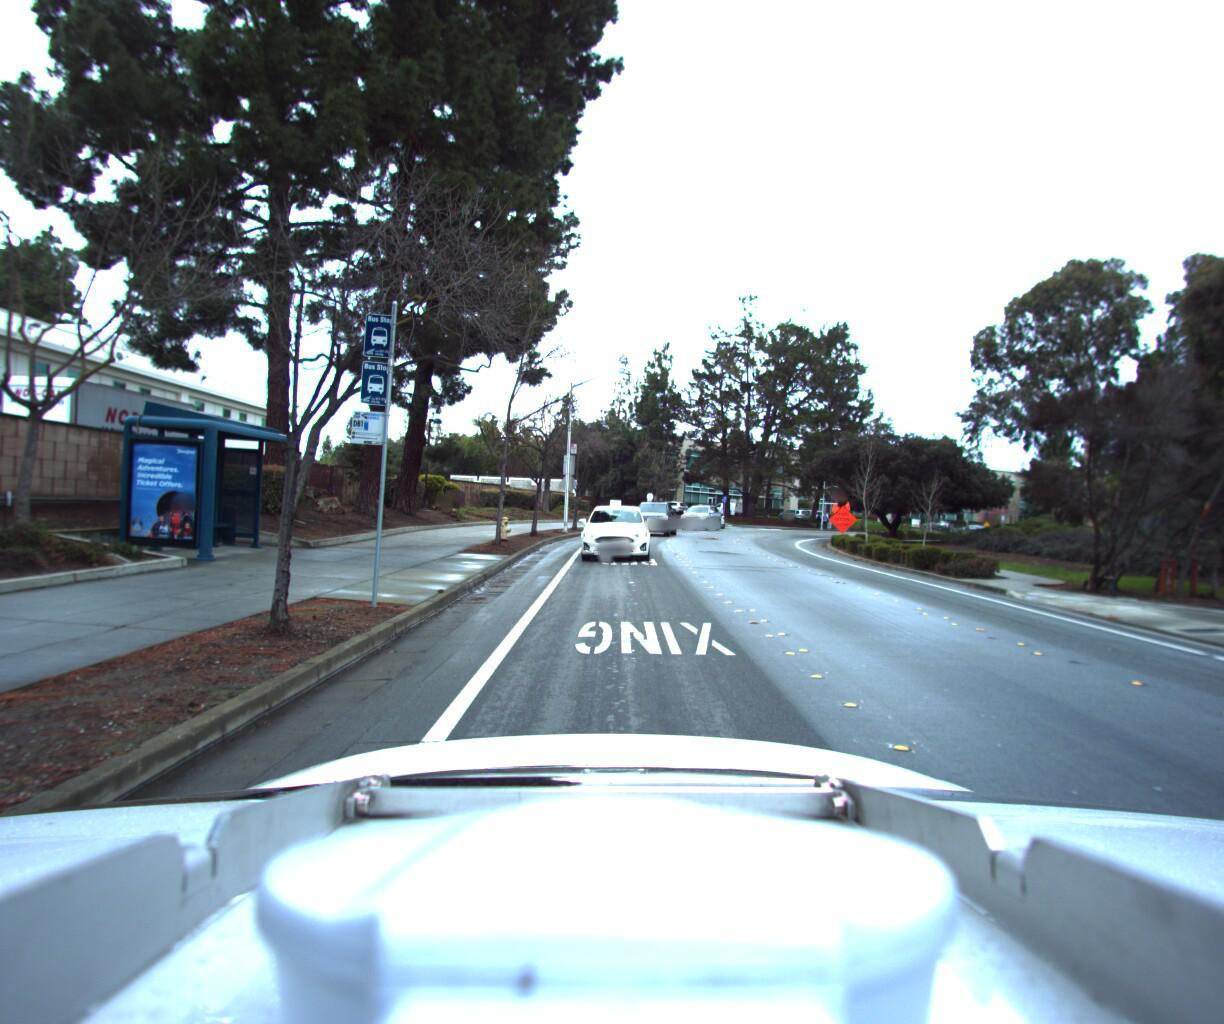car: (583, 500, 658, 565), (632, 499, 678, 537), (677, 503, 724, 532), (706, 505, 738, 529)
